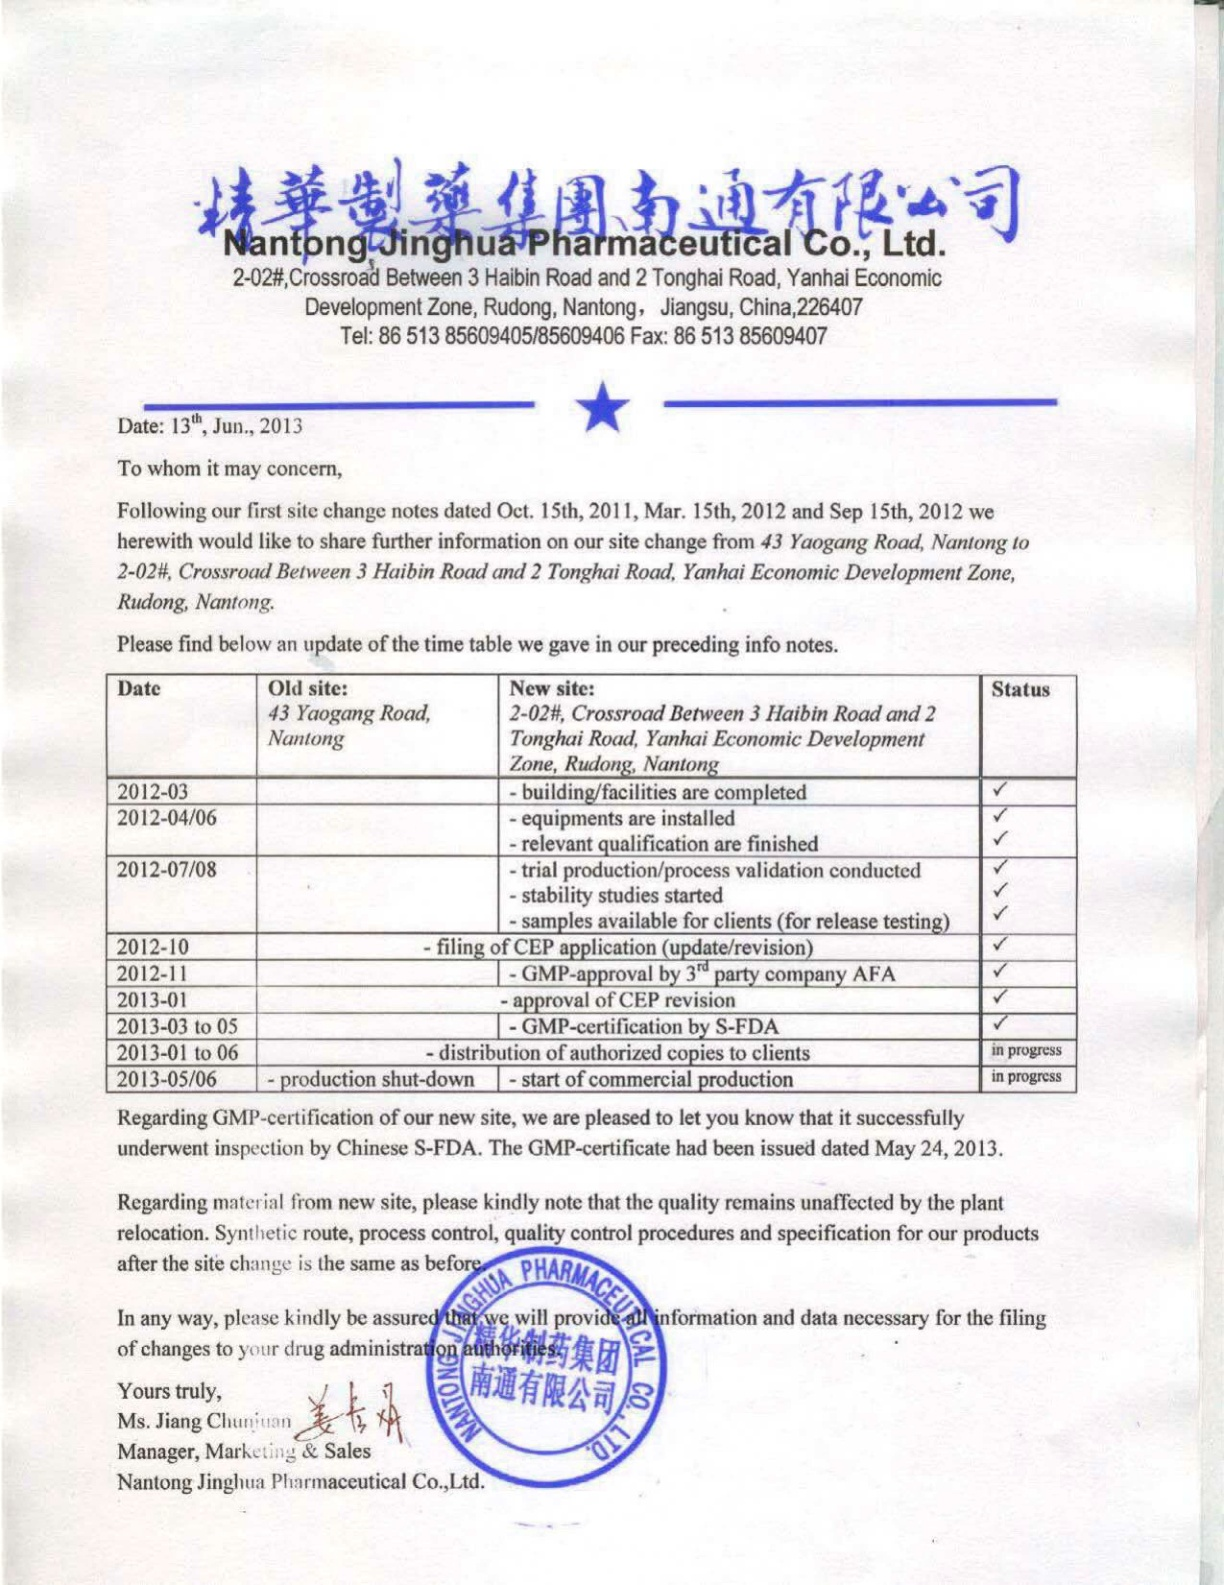merged_cells: (105, 671, 1079, 1094)
